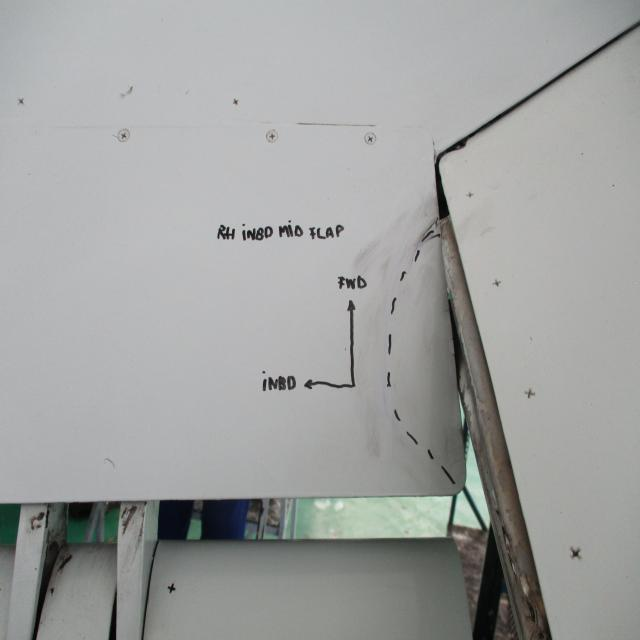crack: (113, 134, 124, 141)
